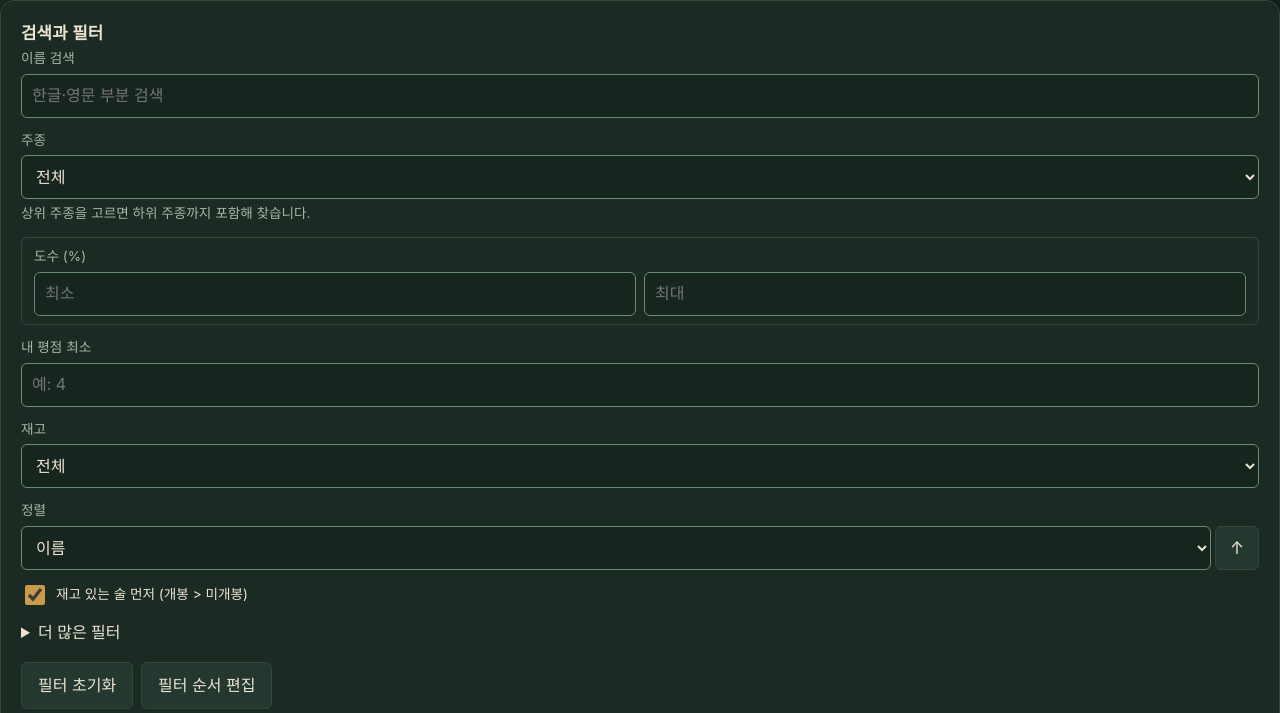
Test case: ProductFilterPanel › '필터 순서 편집' 을 누르면 필드 입력 대신 순서 목록이 나타난다
Click the button "필터 순서 편집" at (207, 686), box [141,662,272,709]
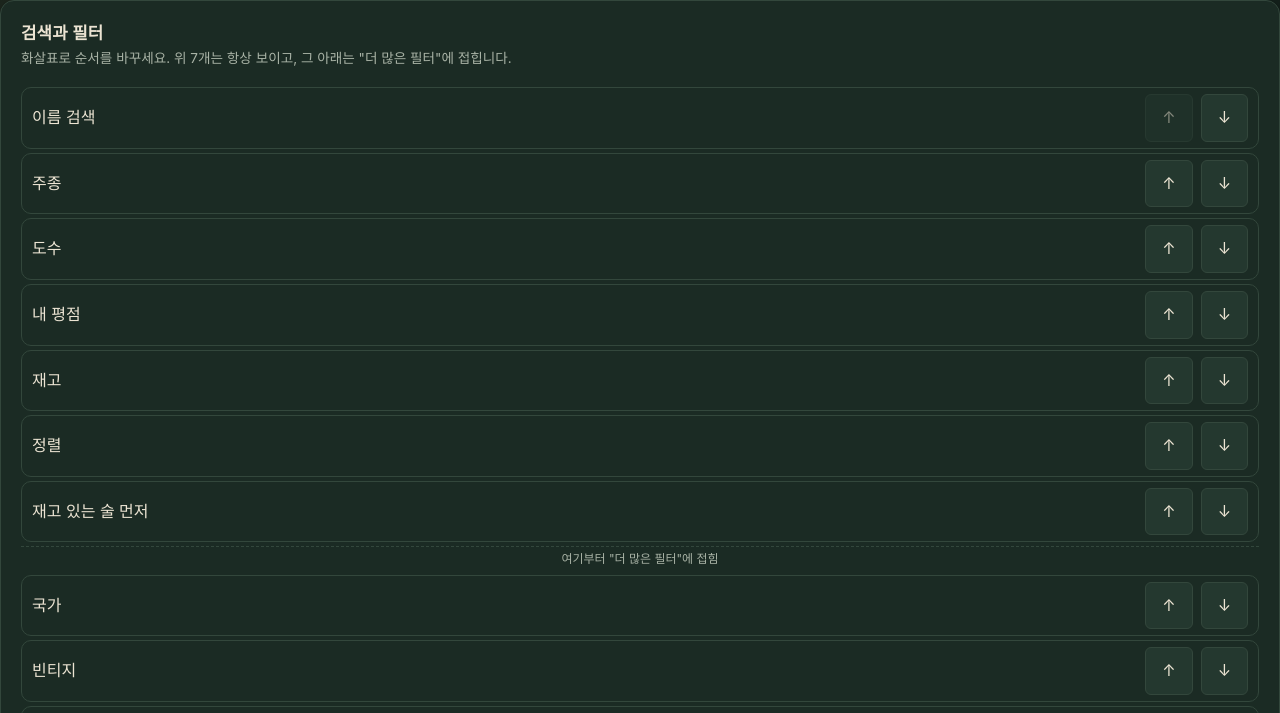
Result: the button named "국가 위로 이동" is shown at [1145,582,1193,629]
